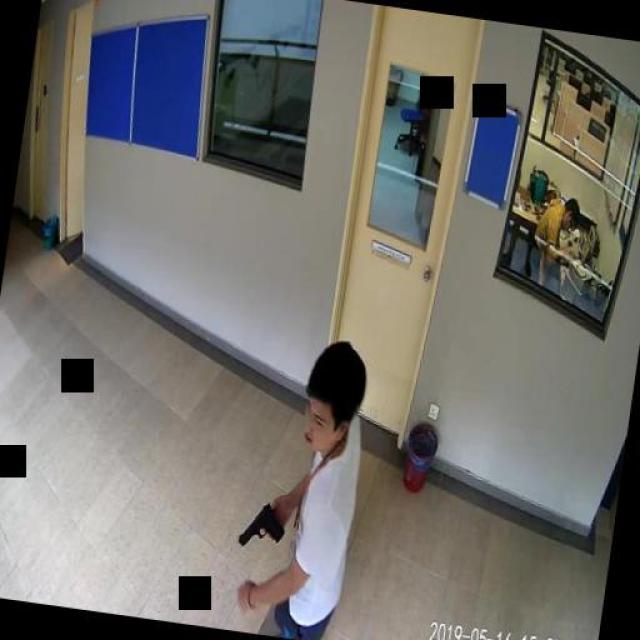gun: (236, 499, 288, 551)
